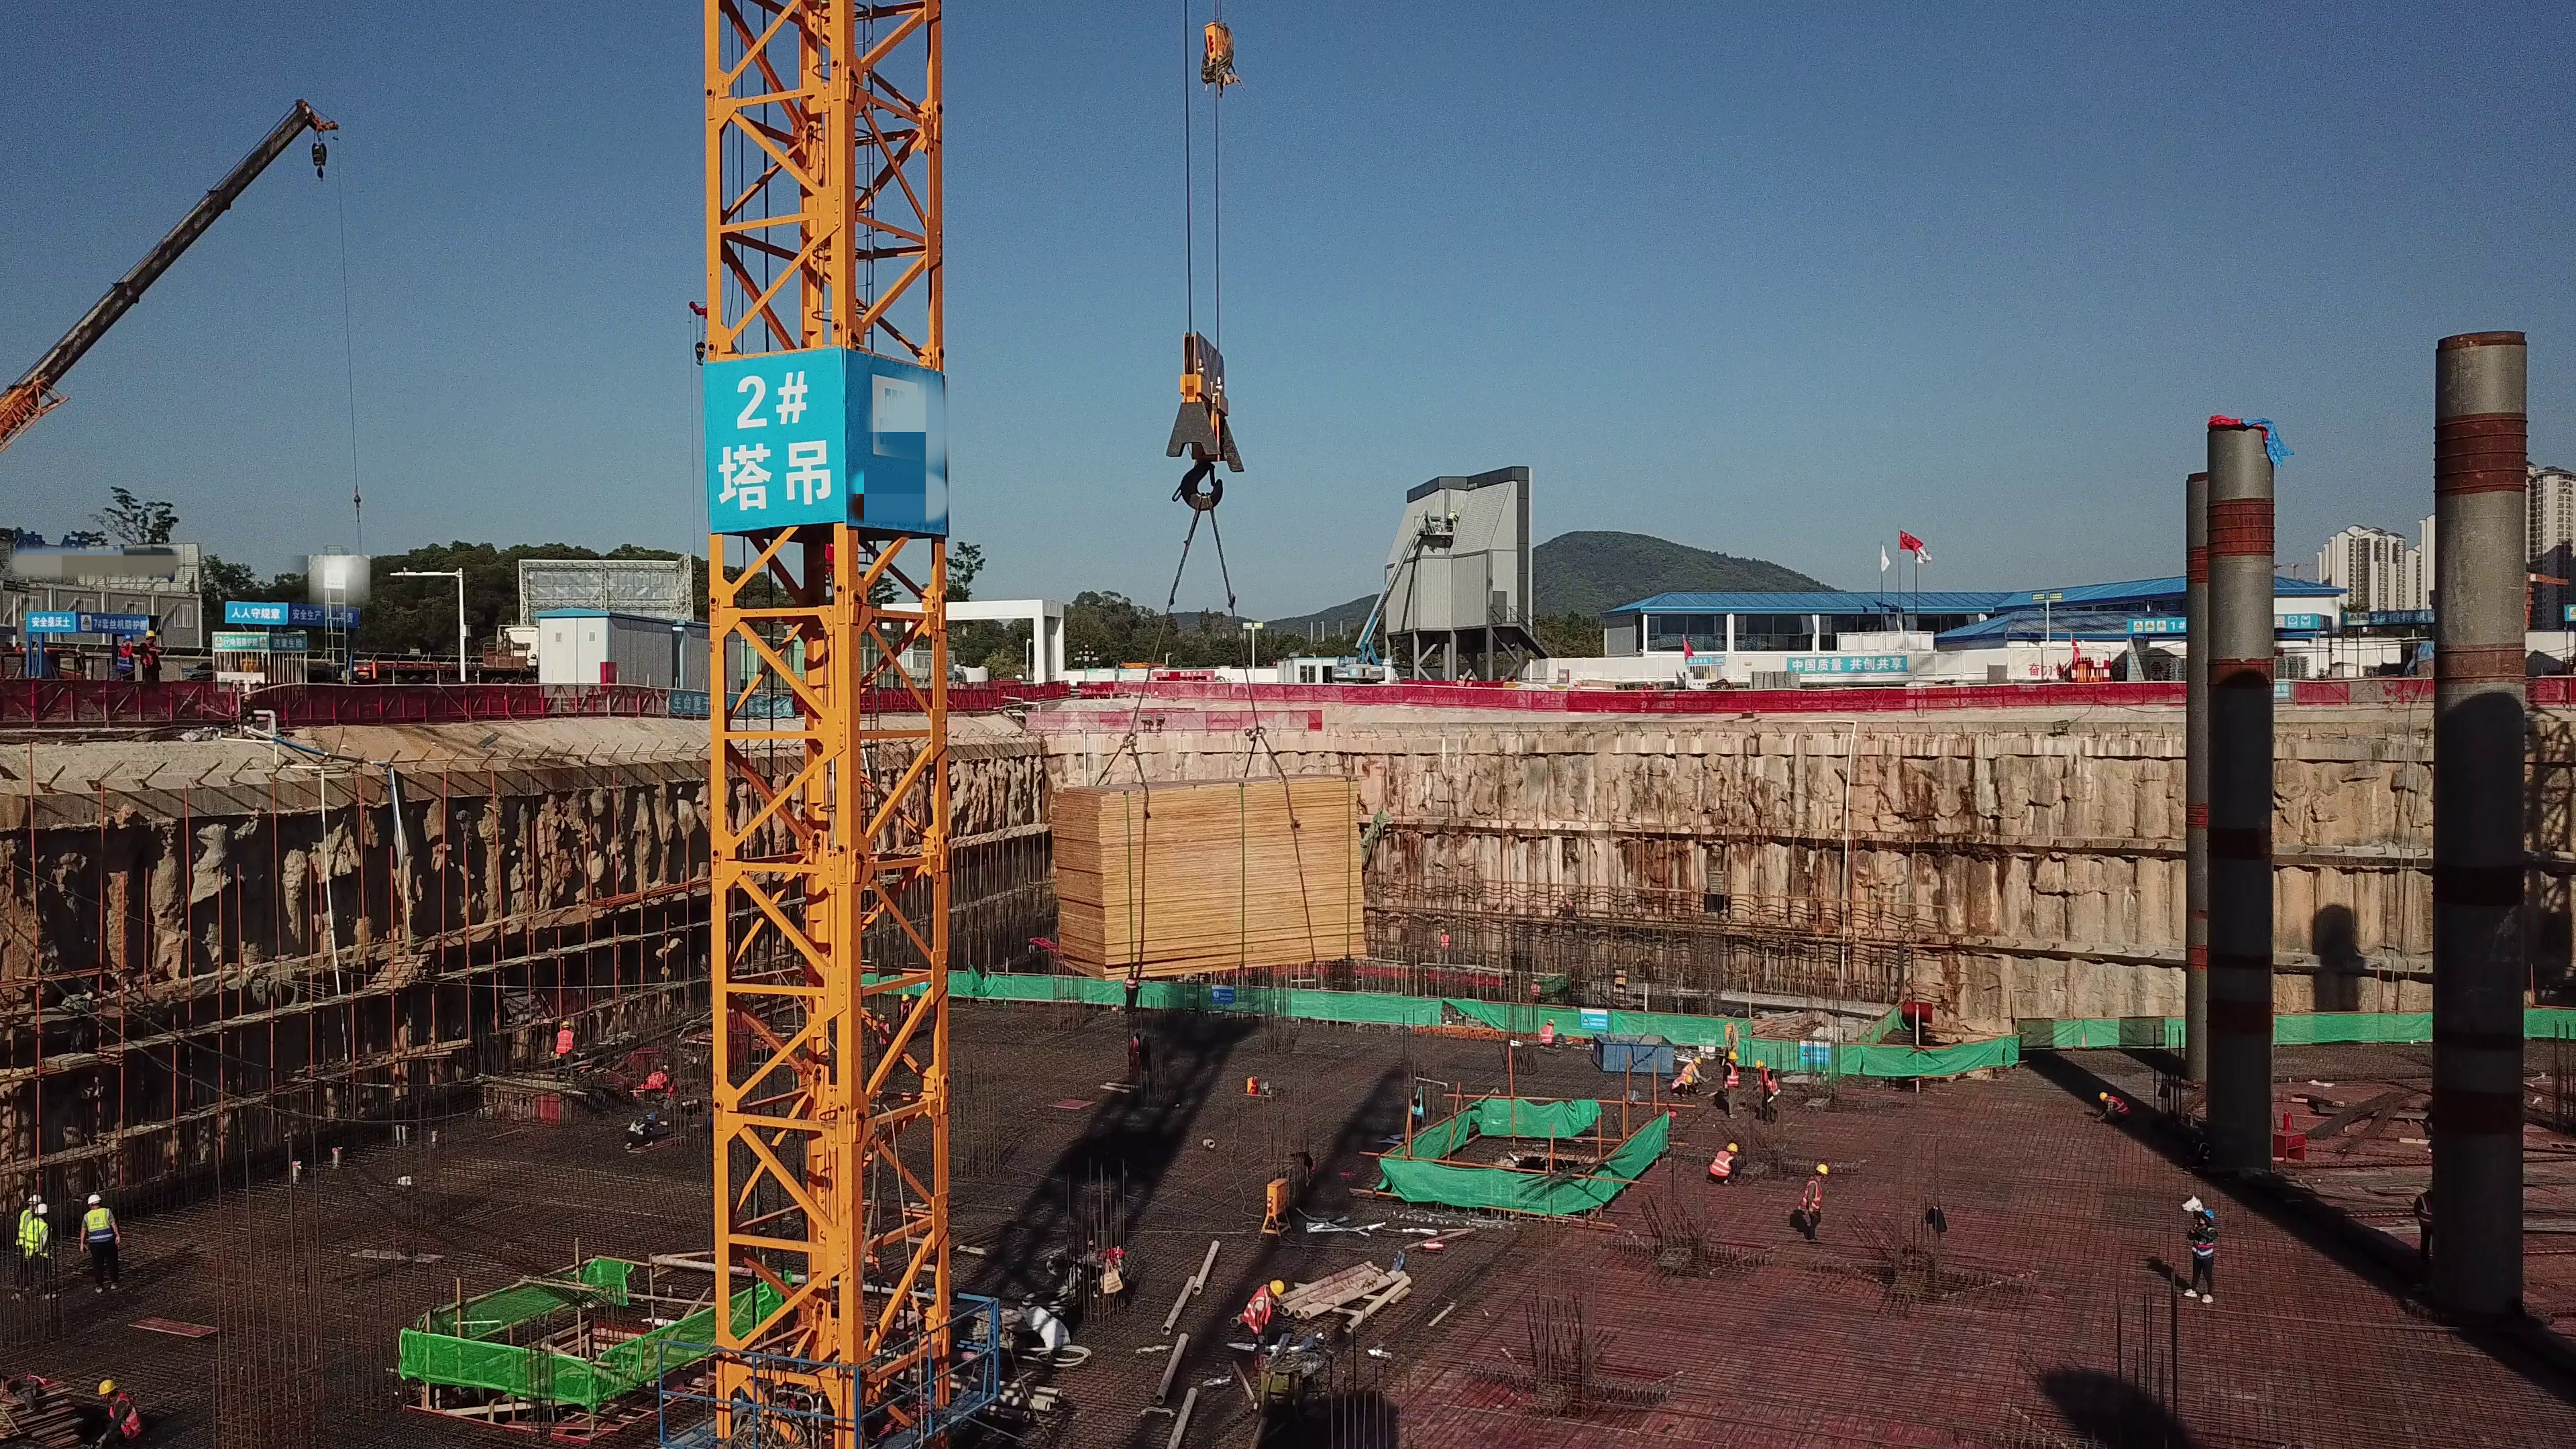board: (1063, 762, 1377, 976)
brick: (1746, 667, 1805, 692), (1812, 1027, 1848, 1042)
ebox: (1262, 1178, 1297, 1237)
fence: (296, 679, 586, 731), (1686, 688, 2142, 702)
helmet: (1267, 1277, 1283, 1303), (97, 1377, 118, 1393), (646, 1110, 657, 1128), (2199, 1207, 2215, 1220), (84, 1193, 101, 1203), (1725, 1142, 1739, 1154), (34, 1203, 46, 1216), (629, 1085, 640, 1099), (1815, 1164, 1830, 1174), (27, 1195, 40, 1203), (145, 630, 156, 638), (1754, 1059, 1764, 1069), (1727, 1051, 1738, 1059), (1693, 1055, 1705, 1064), (2097, 1090, 2108, 1099), (123, 633, 134, 641), (560, 1021, 571, 1027), (900, 994, 909, 1002), (1683, 1075, 1694, 1083), (877, 1014, 885, 1020), (1547, 1018, 1554, 1022)
hook: (1164, 325, 1246, 517), (305, 136, 334, 184), (692, 339, 706, 366)
hopper: (1591, 1028, 1676, 1078)
person: (73, 1187, 127, 1293), (15, 1193, 57, 1307), (89, 1374, 151, 1448), (2183, 1203, 2222, 1309), (1239, 1275, 1287, 1353), (1796, 1160, 1831, 1242), (2412, 1179, 2438, 1269), (1705, 1134, 1742, 1192), (1754, 1057, 1784, 1129), (633, 1062, 678, 1109), (627, 1110, 670, 1155), (553, 1015, 580, 1082), (2088, 1087, 2136, 1123), (1720, 1047, 1739, 1123), (139, 627, 163, 678), (114, 631, 136, 680), (873, 1004, 894, 1062), (892, 986, 915, 1033), (1532, 1016, 1559, 1051), (1681, 1055, 1711, 1075), (1671, 1075, 1697, 1098), (1635, 681, 1653, 703), (1528, 977, 1540, 999), (1454, 672, 1465, 690), (1464, 676, 1475, 691)
slogan: (713, 349, 842, 504), (661, 689, 798, 720), (80, 609, 162, 640), (1789, 653, 1906, 673), (2349, 608, 2436, 625), (292, 604, 361, 625), (229, 602, 284, 625), (216, 635, 270, 653), (32, 610, 72, 633), (2130, 621, 2189, 631), (274, 633, 303, 649)
vest: (1244, 1288, 1275, 1330), (2192, 1226, 2218, 1259), (111, 1398, 136, 1433), (86, 1210, 110, 1244), (28, 1220, 46, 1256), (2418, 1193, 2434, 1226), (117, 645, 135, 673), (17, 1210, 31, 1246), (1762, 1069, 1780, 1096), (140, 641, 159, 665), (556, 1029, 574, 1055), (644, 1073, 669, 1090), (1807, 1178, 1821, 1209), (1714, 1152, 1730, 1177), (2108, 1096, 2128, 1115), (631, 1119, 646, 1139), (1725, 1063, 1739, 1086), (877, 1023, 890, 1044), (1540, 1025, 1553, 1043), (899, 1003, 911, 1018), (1684, 1063, 1698, 1074), (1531, 984, 1539, 997), (1672, 1077, 1684, 1087)
wood: (1760, 1008, 1812, 1040)
